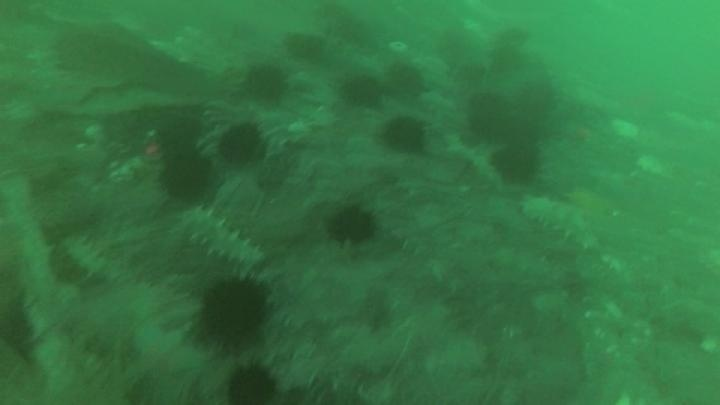echinus: (197, 275, 271, 349), (159, 149, 214, 203), (1, 293, 39, 363), (464, 91, 514, 143), (326, 204, 378, 248), (225, 362, 279, 404), (491, 141, 542, 185), (217, 122, 264, 167), (511, 78, 558, 122), (155, 113, 205, 154), (243, 62, 289, 105), (380, 115, 428, 156), (382, 61, 428, 101), (339, 73, 384, 110), (282, 30, 327, 65), (487, 42, 528, 78), (451, 59, 489, 91)
holothurian: (177, 206, 266, 272), (519, 194, 601, 253), (57, 232, 114, 285)
starfish: (121, 322, 206, 403)
